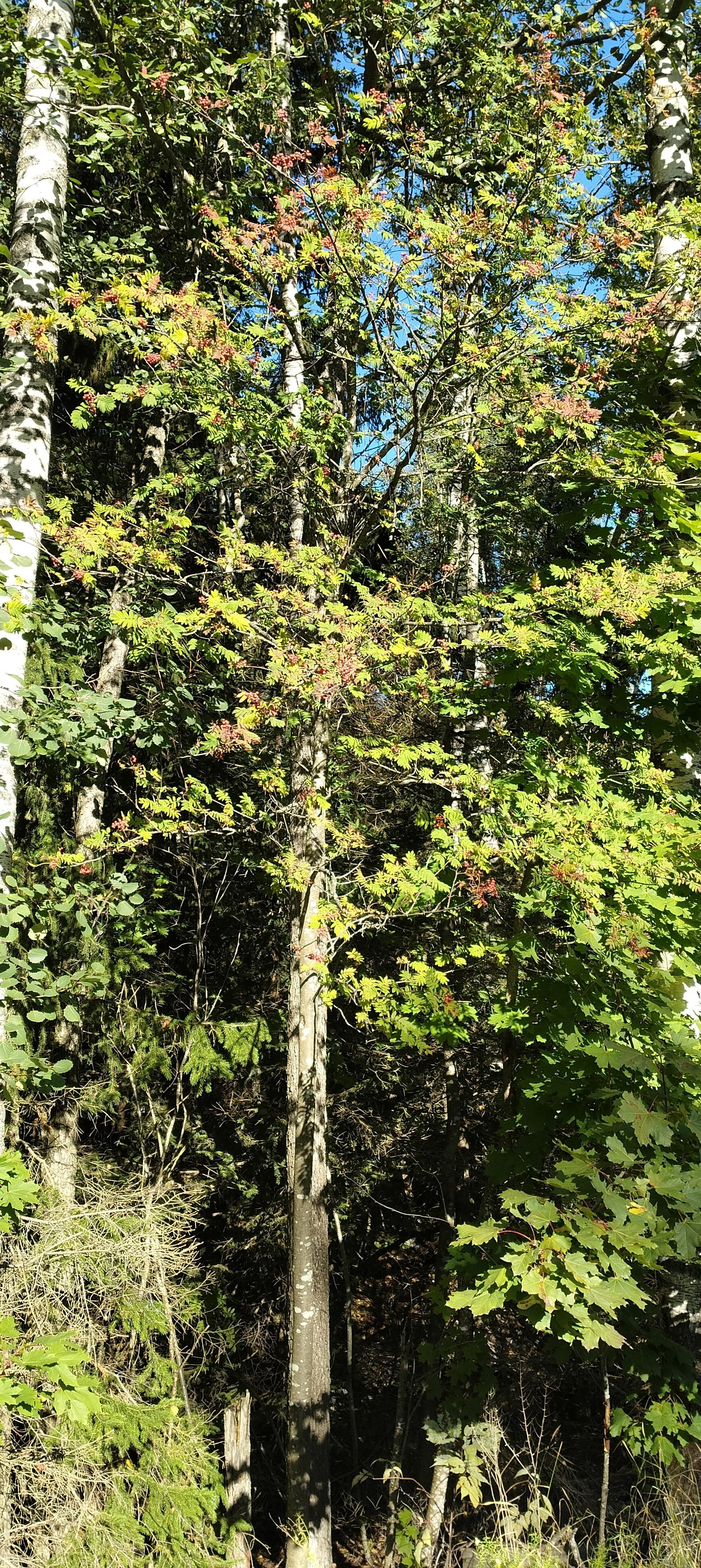Rowan: (149, 90, 504, 1476)
